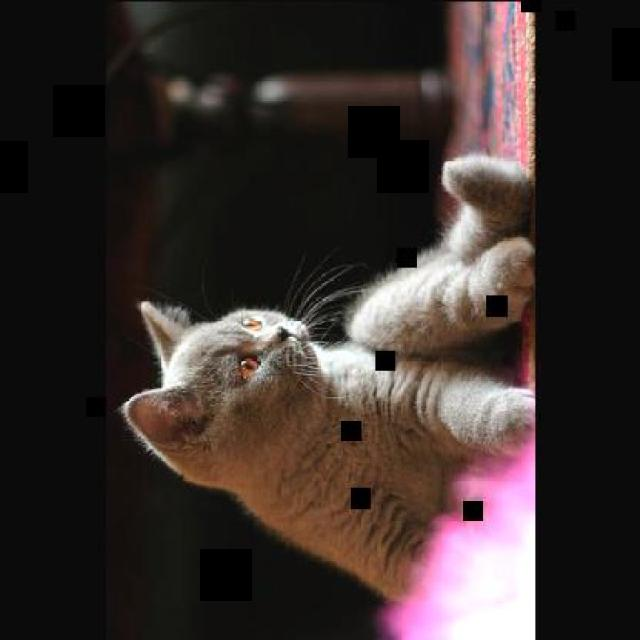unauthorized: (117, 269, 534, 603), (340, 152, 534, 354)
